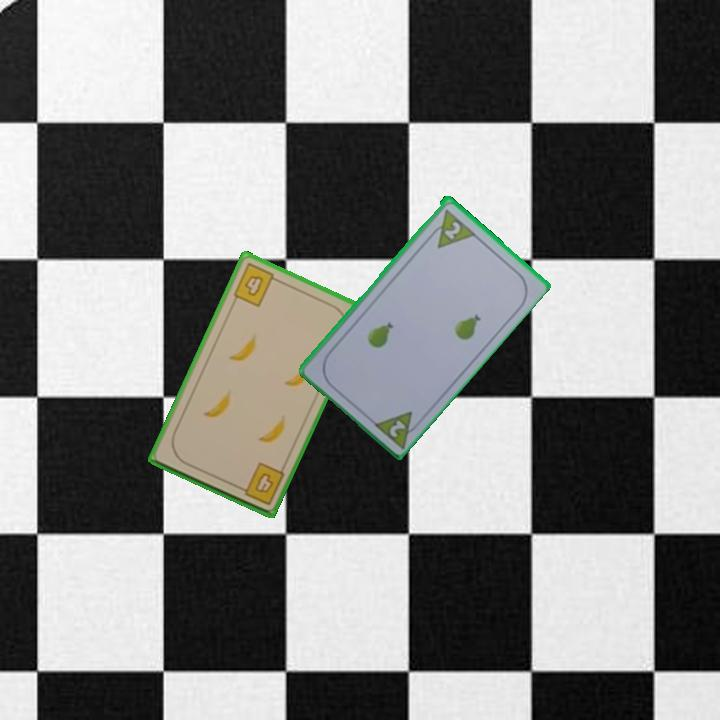2p: (440, 217, 464, 242), (385, 416, 409, 440)
4b: (230, 259, 282, 310), (233, 459, 287, 508)
